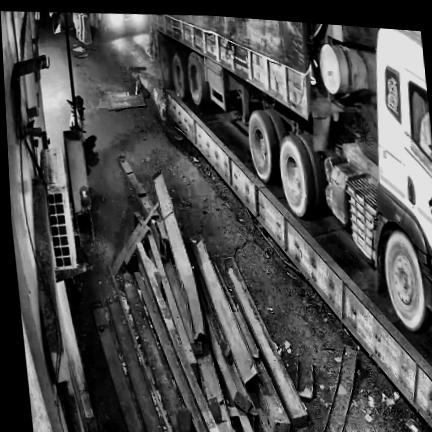tyre: (385, 231, 427, 332), (280, 134, 317, 217), (249, 111, 280, 183), (188, 52, 209, 105), (172, 50, 190, 101), (159, 39, 174, 89), (267, 109, 287, 146)
